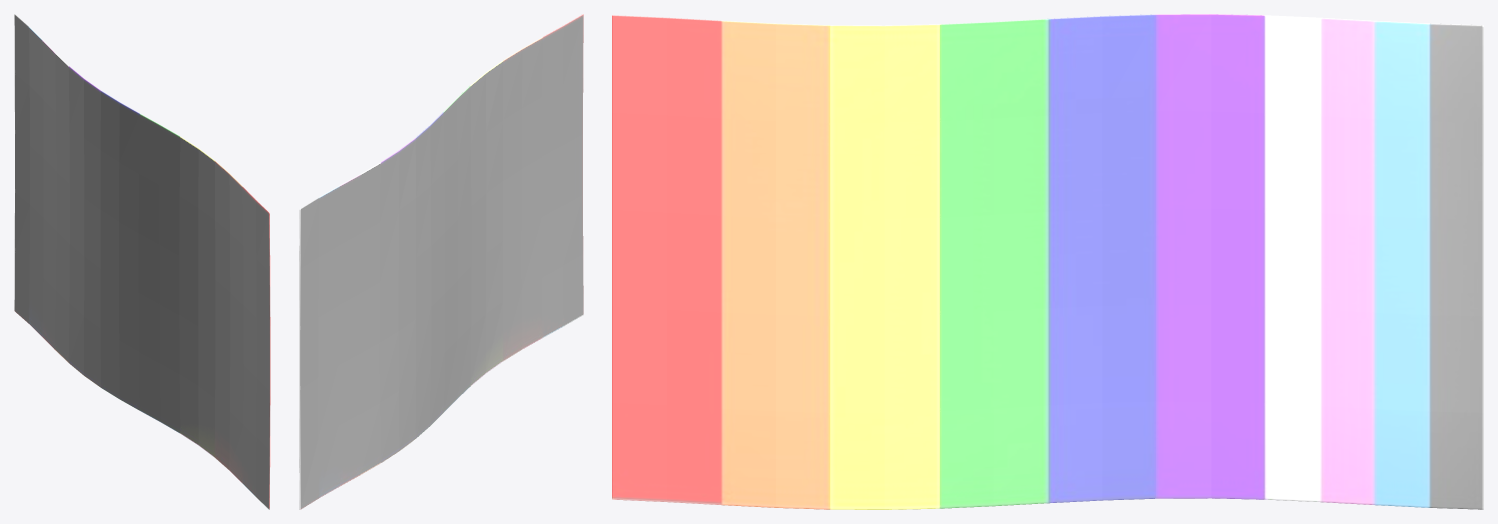
Rendered from bandera2.gltf.
The picture shows the model from 3 angles, left to right: view 1: azimuth 30°, elevation 25°; view 2: azimuth 150°, elevation 25°; view 3: azimuth 270°, elevation 25°; orthographic projection. The views are drawn at different scales.
Parts seen in each view (by area): view 1: Cube (Copy); view 2: Cube (Copy); view 3: Cube (Copy).
Part boxes in pixels (bbox=[...]): Cube (Copy): bbox=[14, 14, 270, 509]; Cube (Copy): bbox=[299, 14, 583, 509]; Cube (Copy): bbox=[612, 14, 1483, 509].
Bounding box in the file's own units: 1.17 × 21.95 × 35.82.
